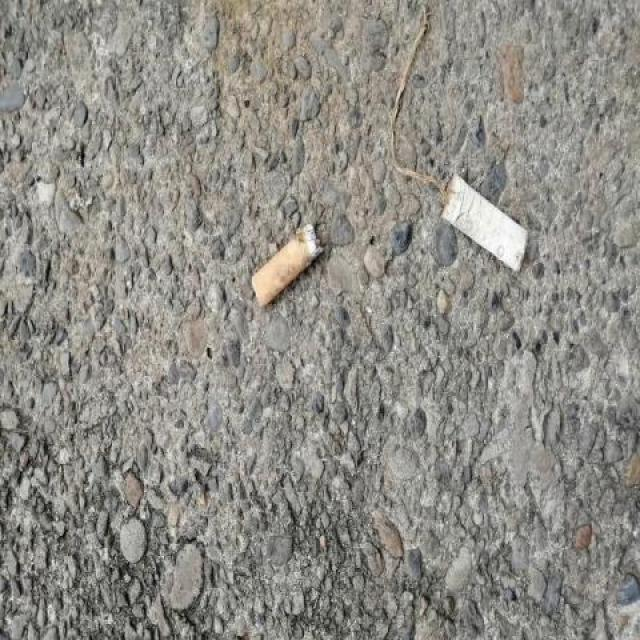non-organic waste: (437, 166, 532, 275), (248, 219, 328, 313)
